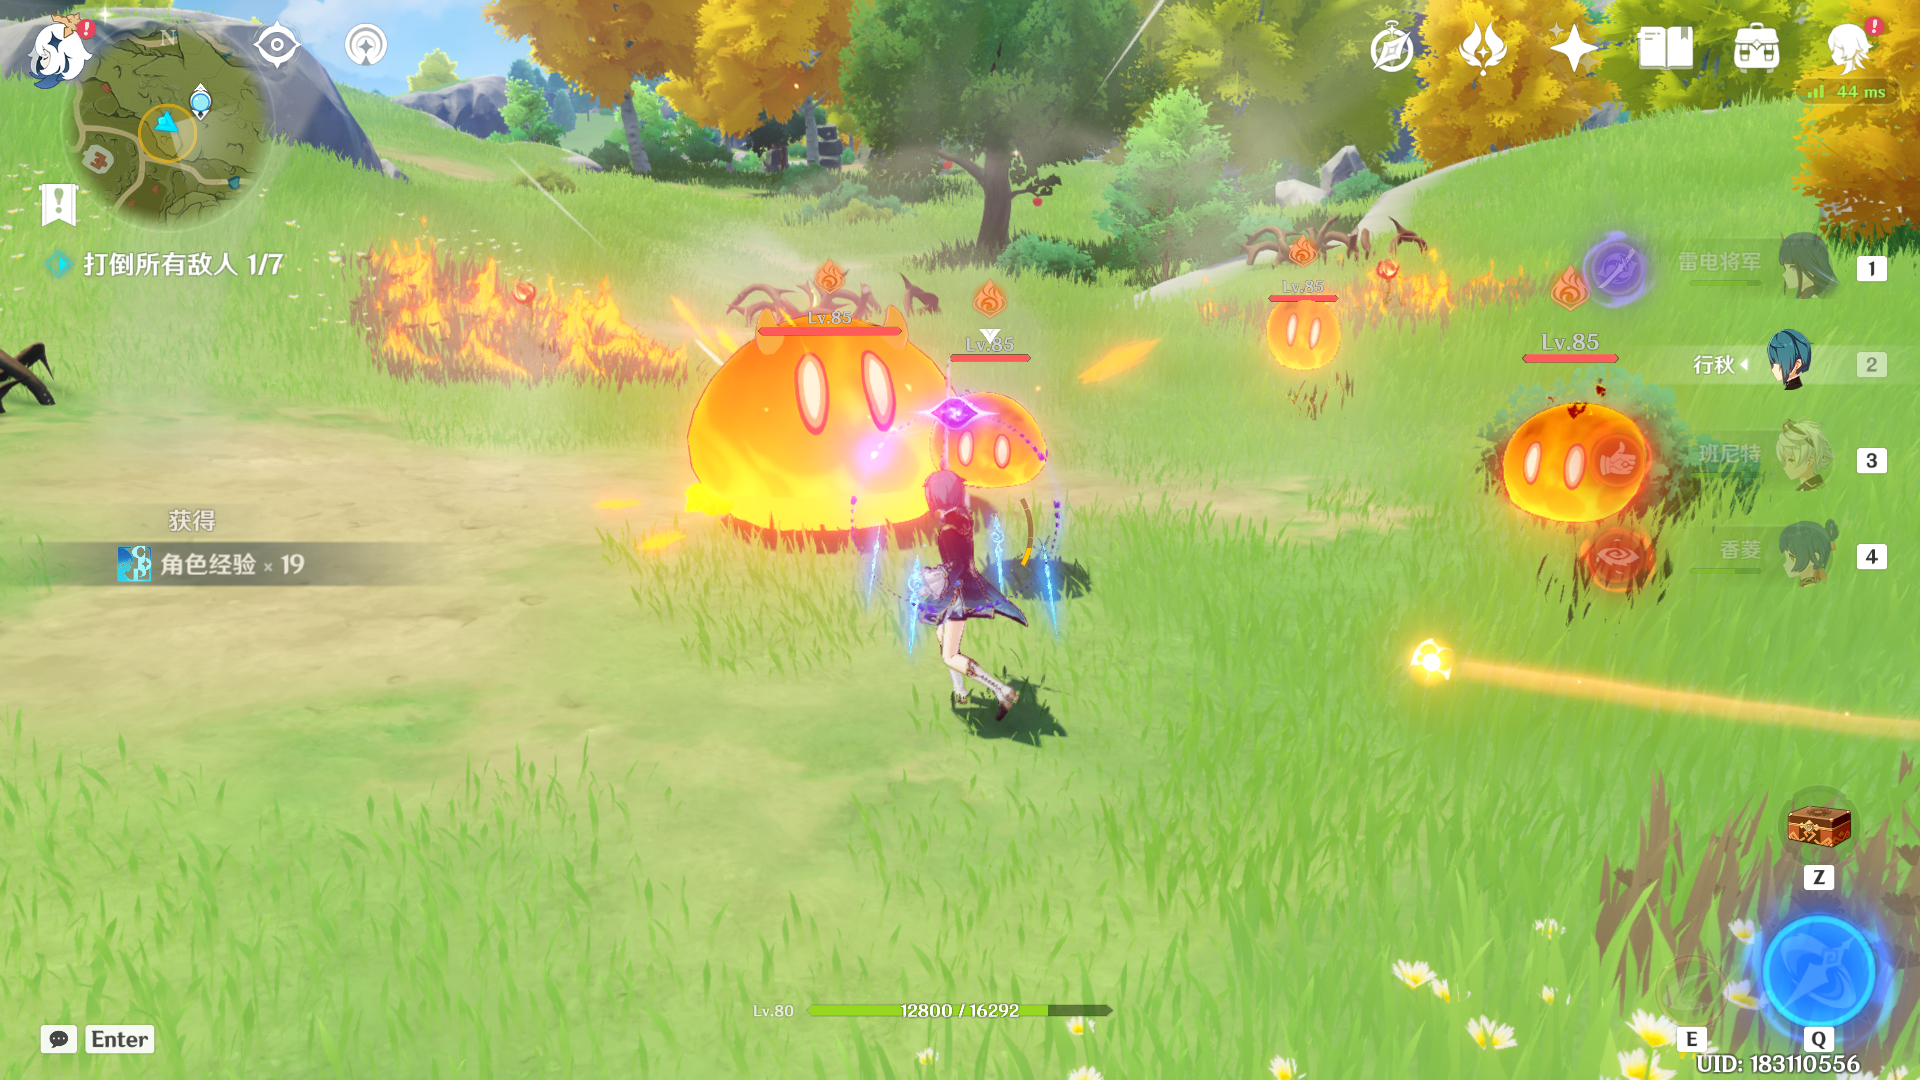character: (884, 462, 1047, 741)
slime: (640, 295, 982, 545), (1465, 360, 1669, 585), (911, 369, 1062, 495), (1244, 298, 1341, 381)
